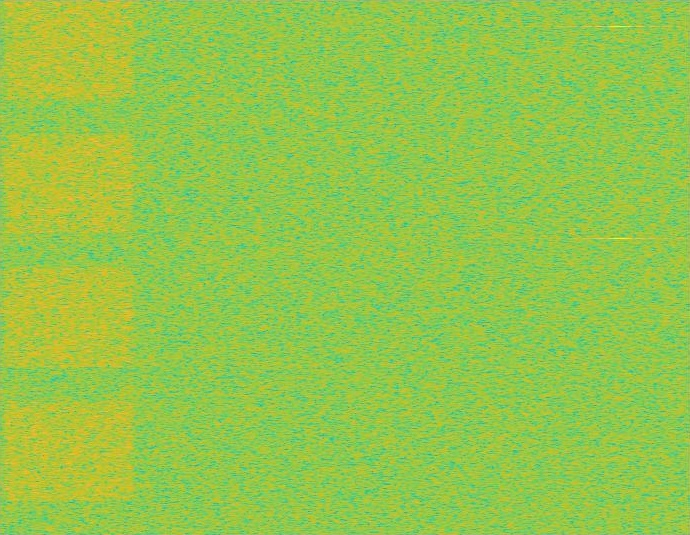5G: (0, 0, 138, 534)
Radar: (613, 0, 627, 534)
